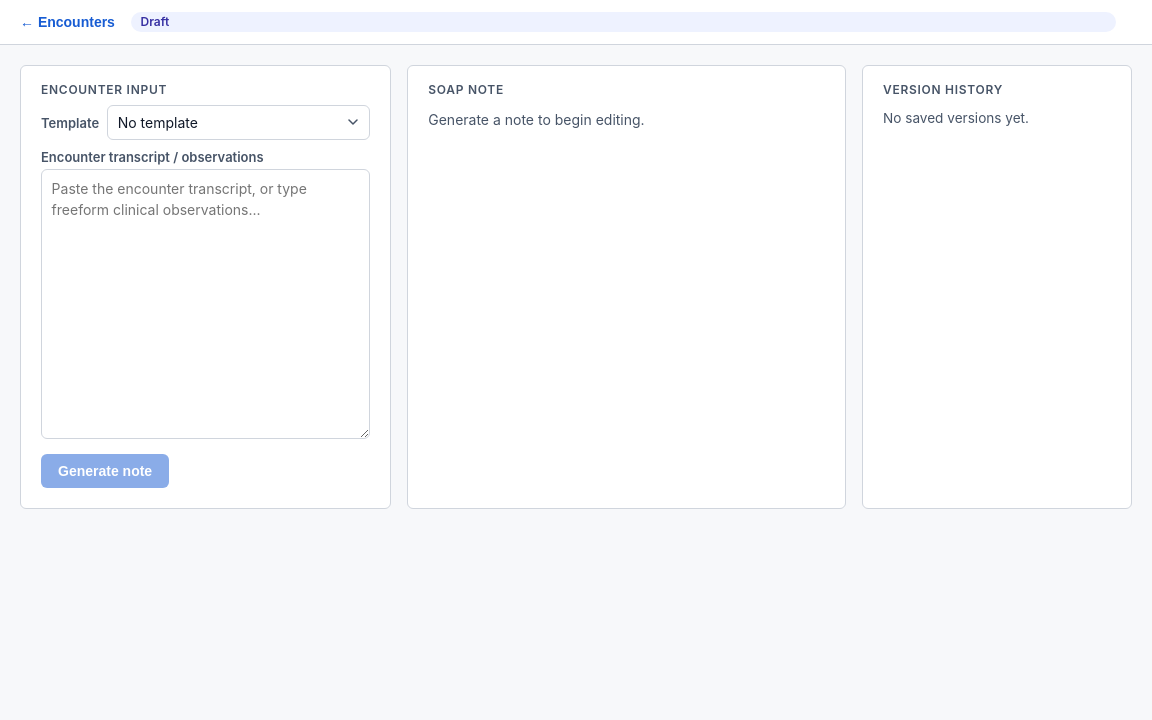
Scenario: EncounterWorkspacePage autosave race guard › never lets a stale red-flags response overwrite a fresher one
The image size is (1152, 720).
Replace the text in the text box labelled "Encounter transcript / observations" with "A" at (206, 304), box [41, 169, 370, 439]
Wait 600 ms
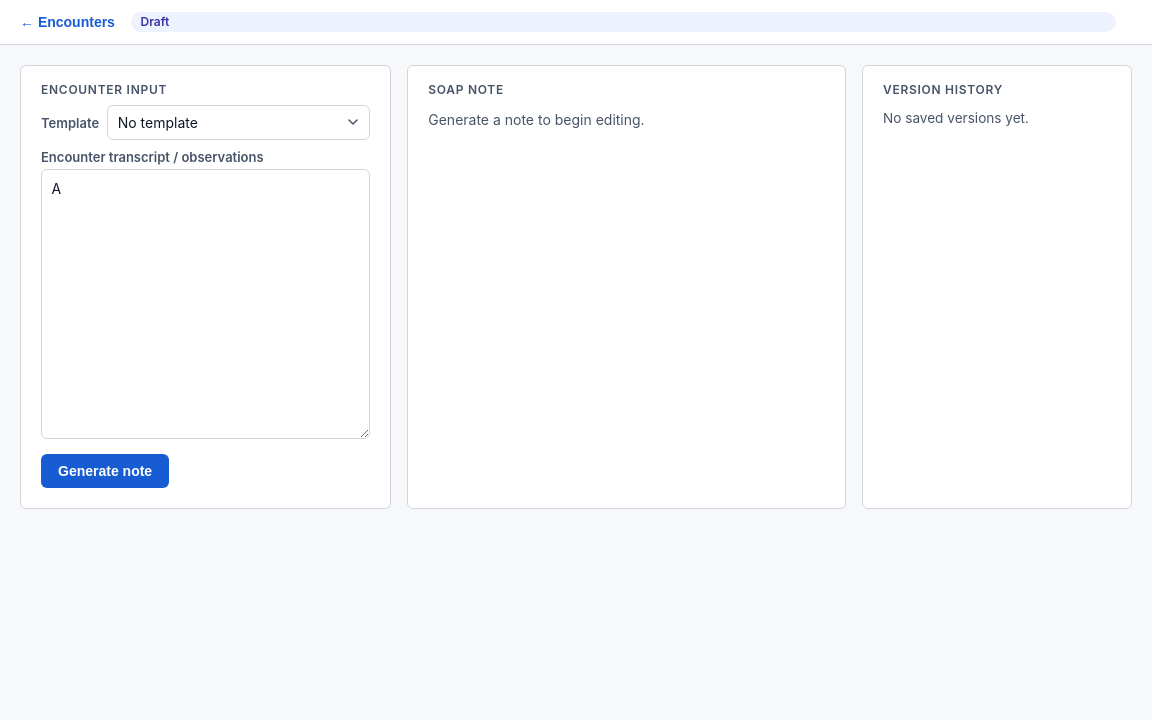
Replace the text in the text box labelled "Encounter transcript / observations" with "AB" at (206, 304), box [41, 169, 370, 439]
Wait 600 ms
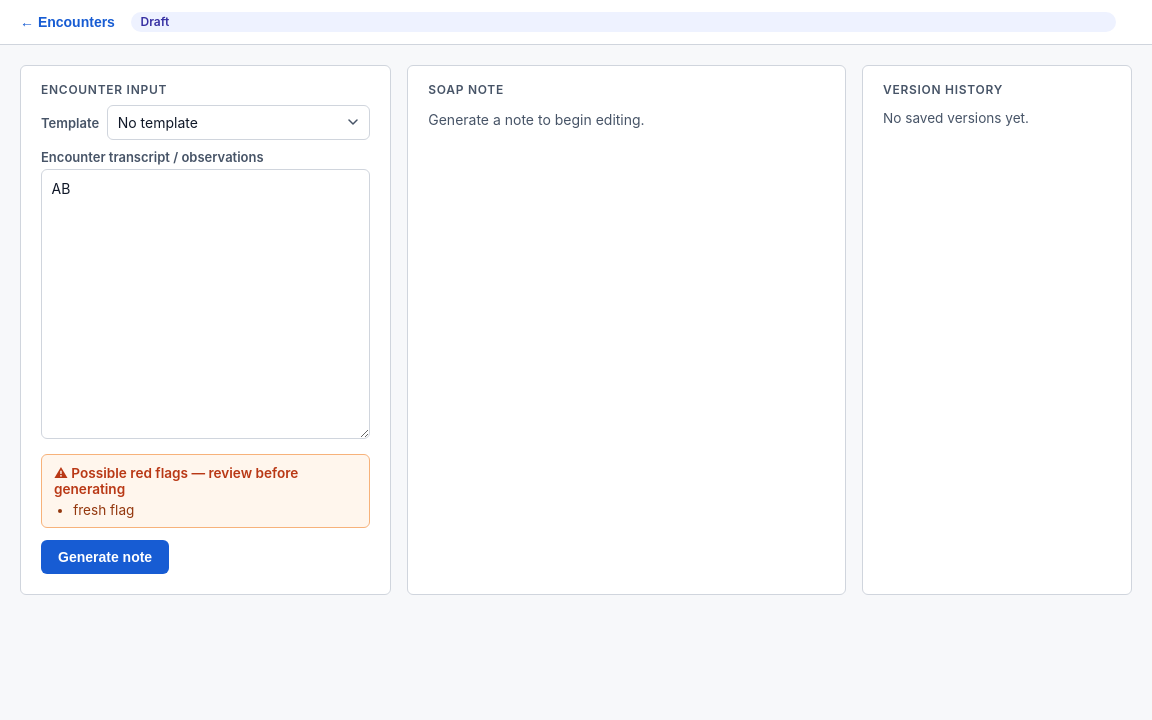
Check: the list item "fresh flag" is shown, box [73, 502, 134, 518]
